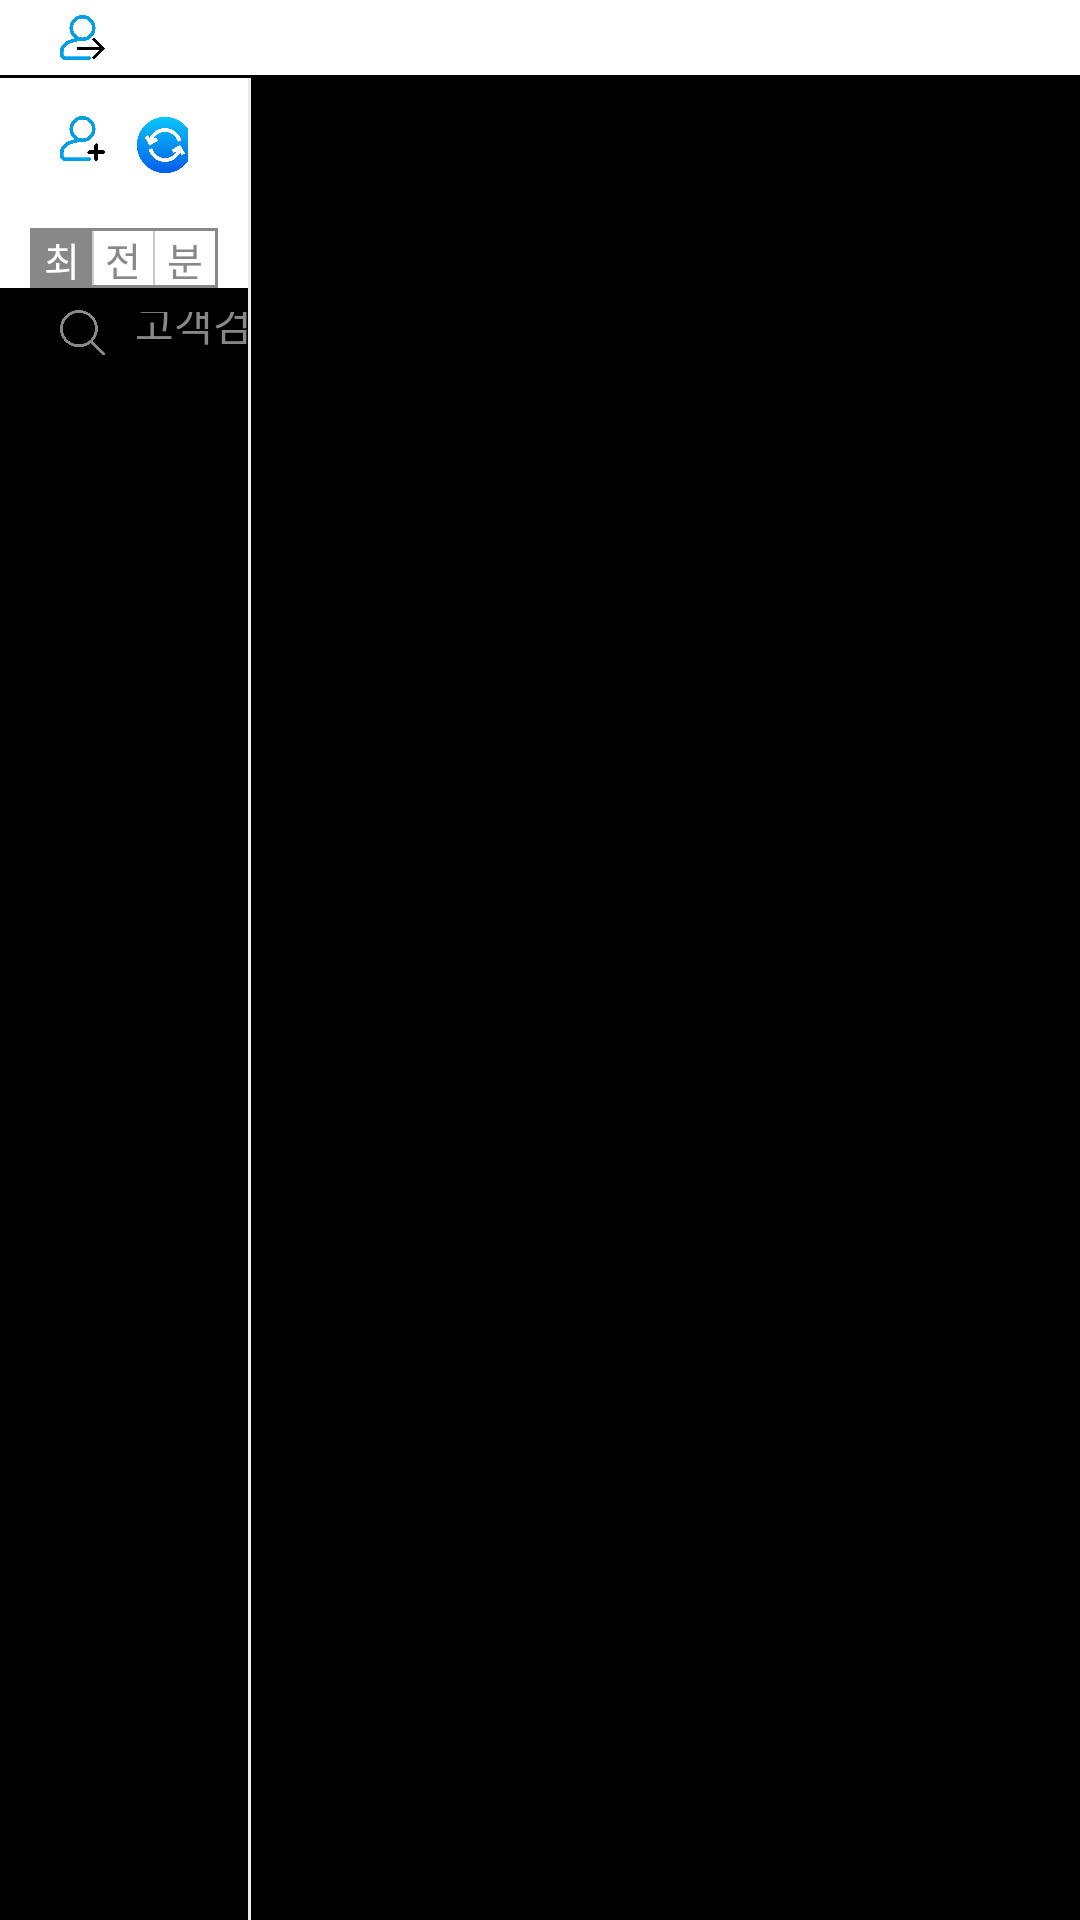

Locate icon controls on the screen. Image size 1080×1920, boxes as (x1, y1, x2, y2).
add user: (60, 116, 105, 161)
refresh: (137, 117, 188, 173)
search: (60, 310, 105, 355)
slide user: (60, 15, 105, 60)
